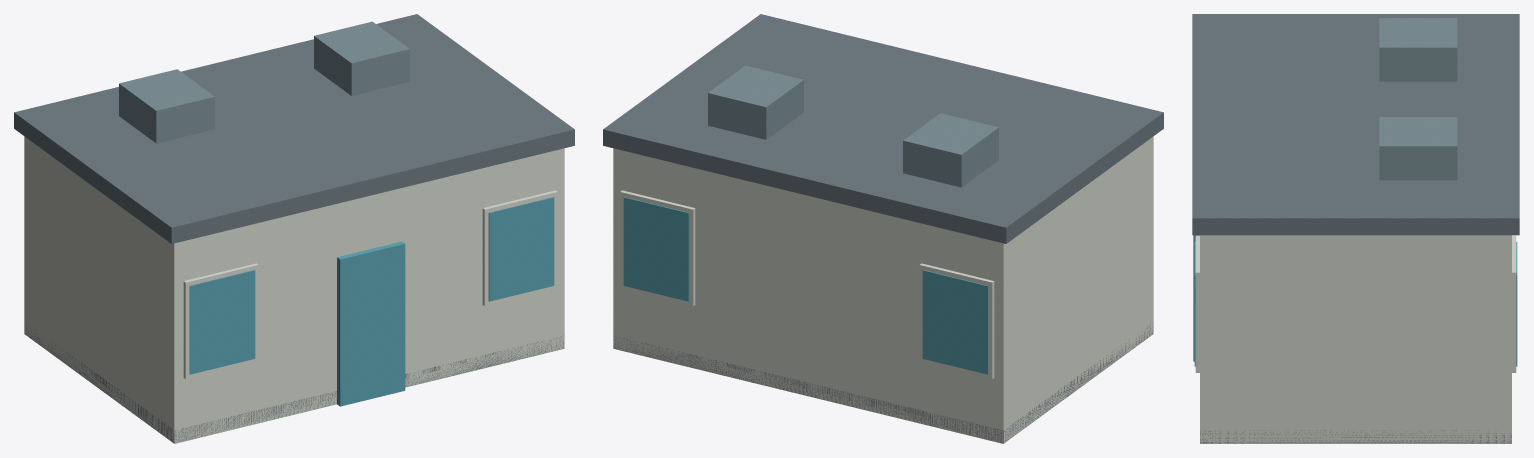
File: low_poly_city_office_building_low.glb
3 renders of one model, left to right at view 1: azimuth 30°, elevation 25°; view 2: azimuth 150°, elevation 25°; view 3: azimuth 270°, elevation 25°, orthographic. The views are drawn at different scales.
Parts seen in each view (by area): view 1: Building wall volume 001, Flat roof coping 012, Entry door 011, Window blue glazing 008, Window blue glazing 004, Roof service unit 014, Roof service unit 013, Plinth 002, Window trim 007, Window trim 003; view 2: Building wall volume 001, Flat roof coping 012, Window blue glazing 010, Window blue glazing 006, Roof service unit 014, Roof service unit 013, Plinth 002, Window trim 009, Window trim 005; view 3: Building wall volume 001, Flat roof coping 012, Roof service unit 013, Roof service unit 014, Plinth 002, Window trim 007, Window trim 009.
Boxes of the visible parts, <box> form: Building wall volume 001: <box>24,136,564,443</box>; Flat roof coping 012: <box>14,14,574,243</box>; Entry door 011: <box>337,241,405,406</box>; Window blue glazing 008: <box>488,197,554,301</box>; Window blue glazing 004: <box>189,270,255,374</box>; Roof service unit 014: <box>314,21,409,95</box>; Roof service unit 013: <box>119,69,214,143</box>; Plinth 002: <box>25,326,563,443</box>; Window trim 007: <box>482,190,557,305</box>; Window trim 003: <box>183,263,258,379</box>; Building wall volume 001: <box>613,136,1153,443</box>; Flat roof coping 012: <box>603,14,1163,243</box>; Window blue glazing 010: <box>623,197,689,301</box>; Window blue glazing 006: <box>922,270,988,374</box>; Roof service unit 014: <box>708,65,803,139</box>; Roof service unit 013: <box>903,113,998,187</box>; Plinth 002: <box>614,323,1153,443</box>; Window trim 009: <box>620,190,695,305</box>; Window trim 005: <box>919,263,994,379</box>; Building wall volume 001: <box>1200,235,1511,443</box>; Flat roof coping 012: <box>1192,14,1519,235</box>; Roof service unit 013: <box>1379,18,1457,81</box>; Roof service unit 014: <box>1379,117,1457,180</box>; Plinth 002: <box>1200,430,1511,443</box>; Window trim 007: <box>1195,235,1199,372</box>; Window trim 009: <box>1512,235,1516,372</box>.
Size of the model in its own units: 6.2 by 3.72 by 4.2.
Materials: 4 (4 with a texture image).
